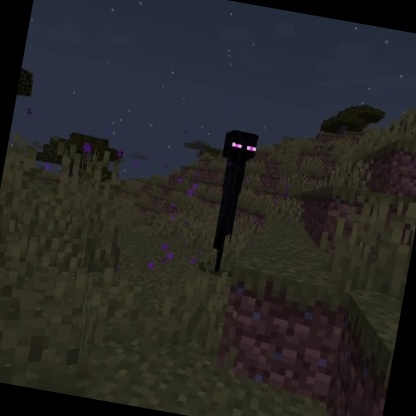enderman: (198, 126, 263, 276)
